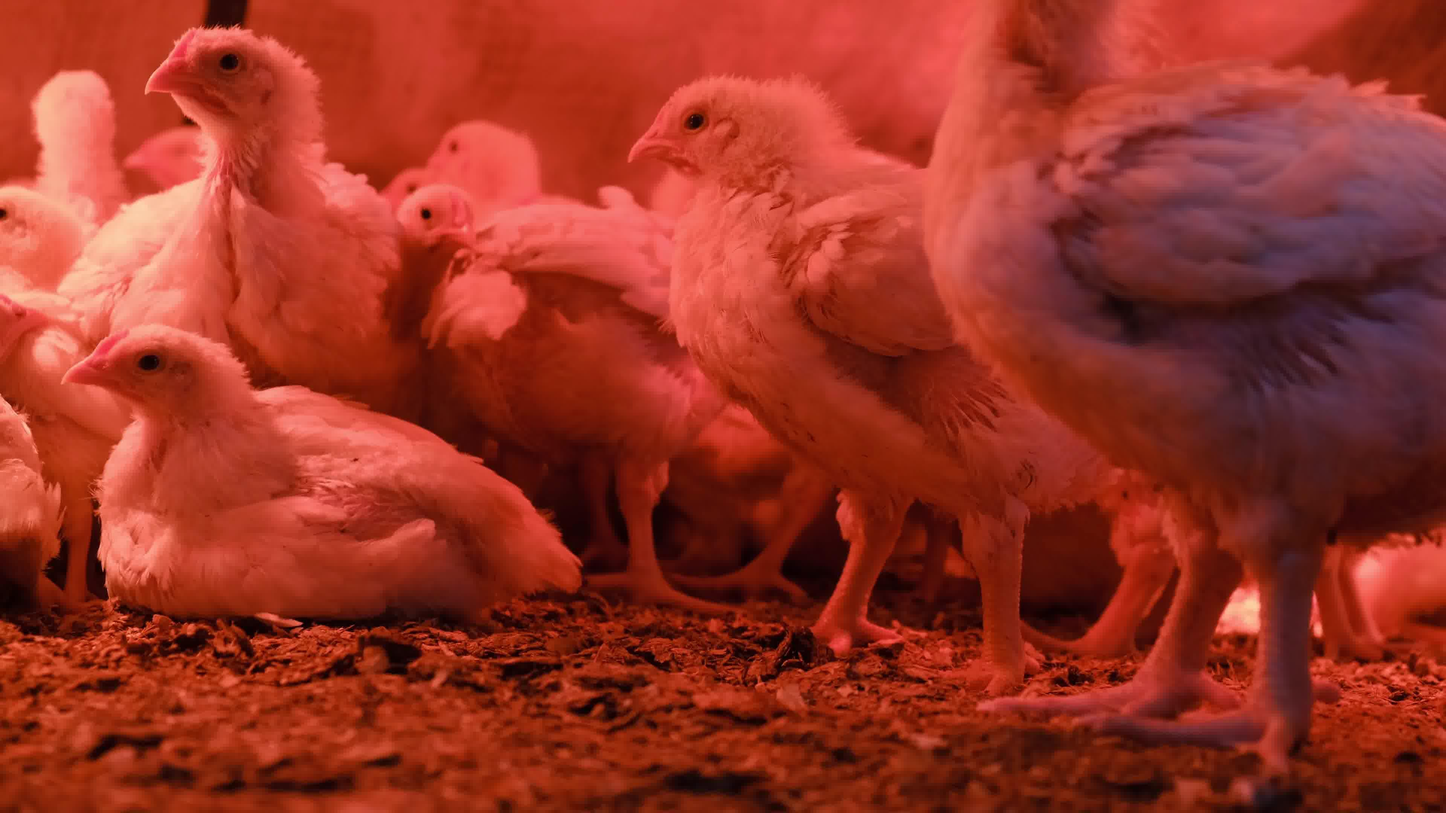AbNormal: (56, 320, 586, 657), (0, 250, 113, 617)
Normal: (938, 0, 1446, 766), (593, 56, 1098, 693), (85, 13, 442, 371), (409, 104, 602, 254), (378, 177, 527, 335), (0, 21, 136, 177), (0, 137, 109, 288), (111, 107, 258, 216)
